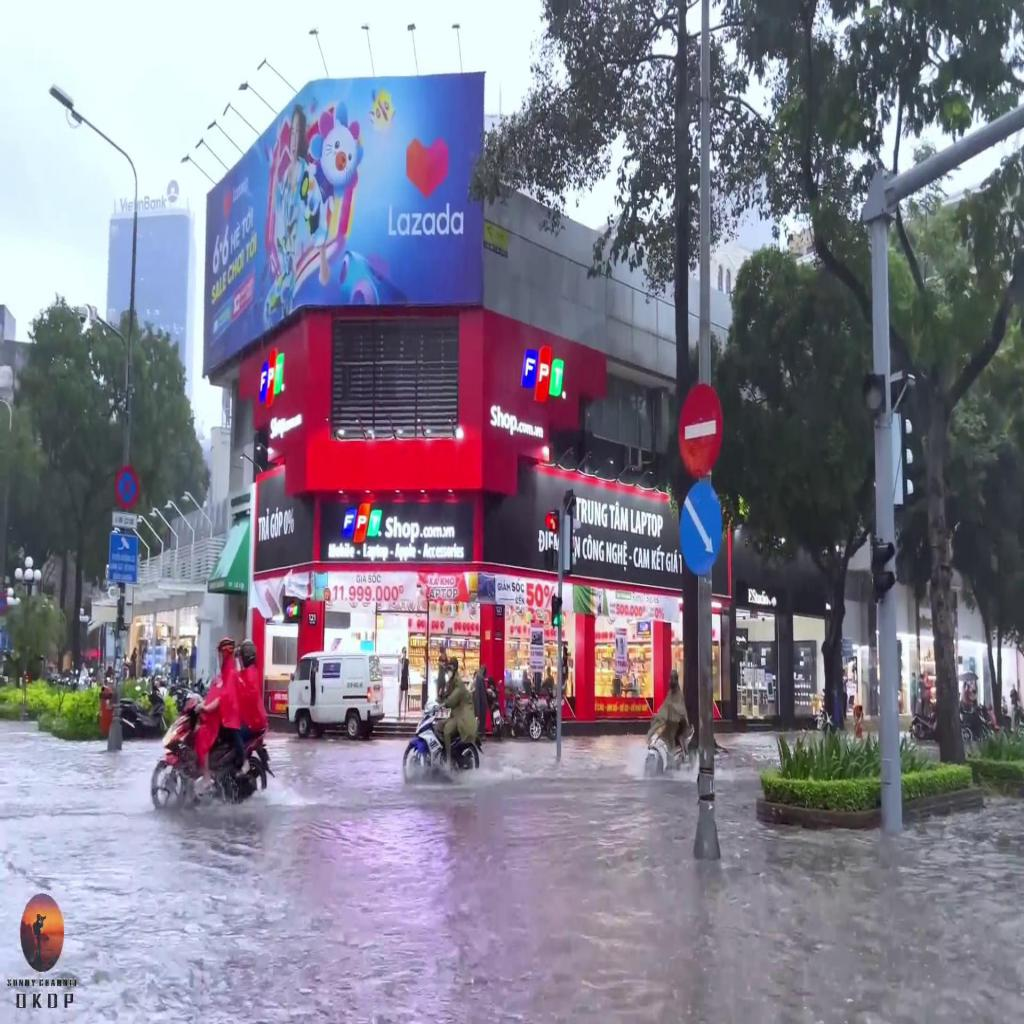cam_dung_xe_va_do_xe: (115, 467, 139, 508)
cam_xe_di_nguoc_chieu: (677, 384, 724, 478)
huong_phai_di_vuot_chuong_ngai_vat_phai: (678, 482, 722, 572)
khac: (109, 535, 137, 582), (112, 512, 138, 528)
